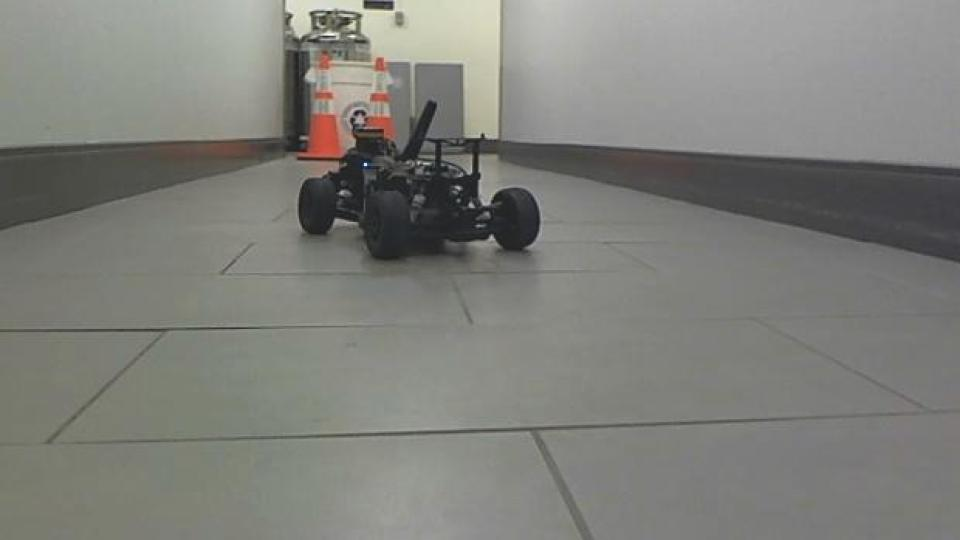car: (292, 96, 544, 262)
